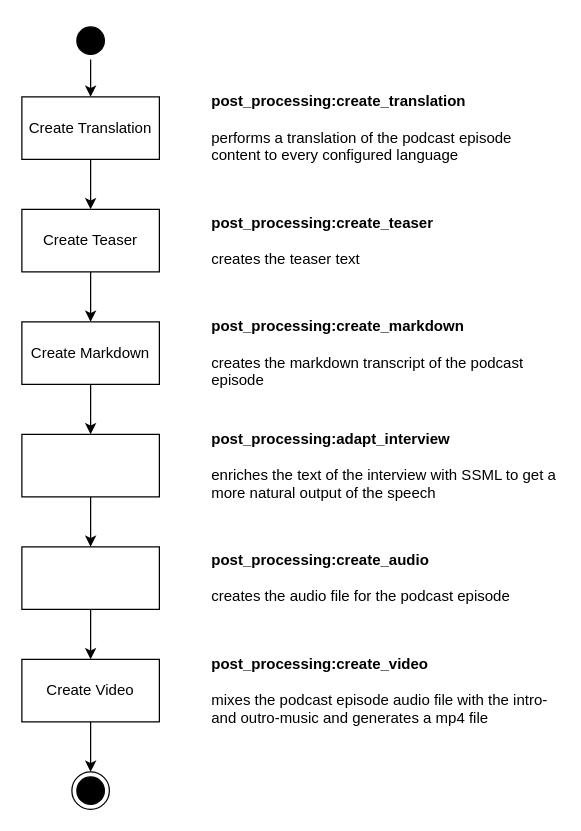
Some shapes in this 581 by 831 pixel diagram are drawn without their labels. Here are the shapes that lost their labels. From the top down, the box of each, then its label:
(21, 433, 159, 497): Adapt Interview
(21, 546, 159, 609): Create Audio
